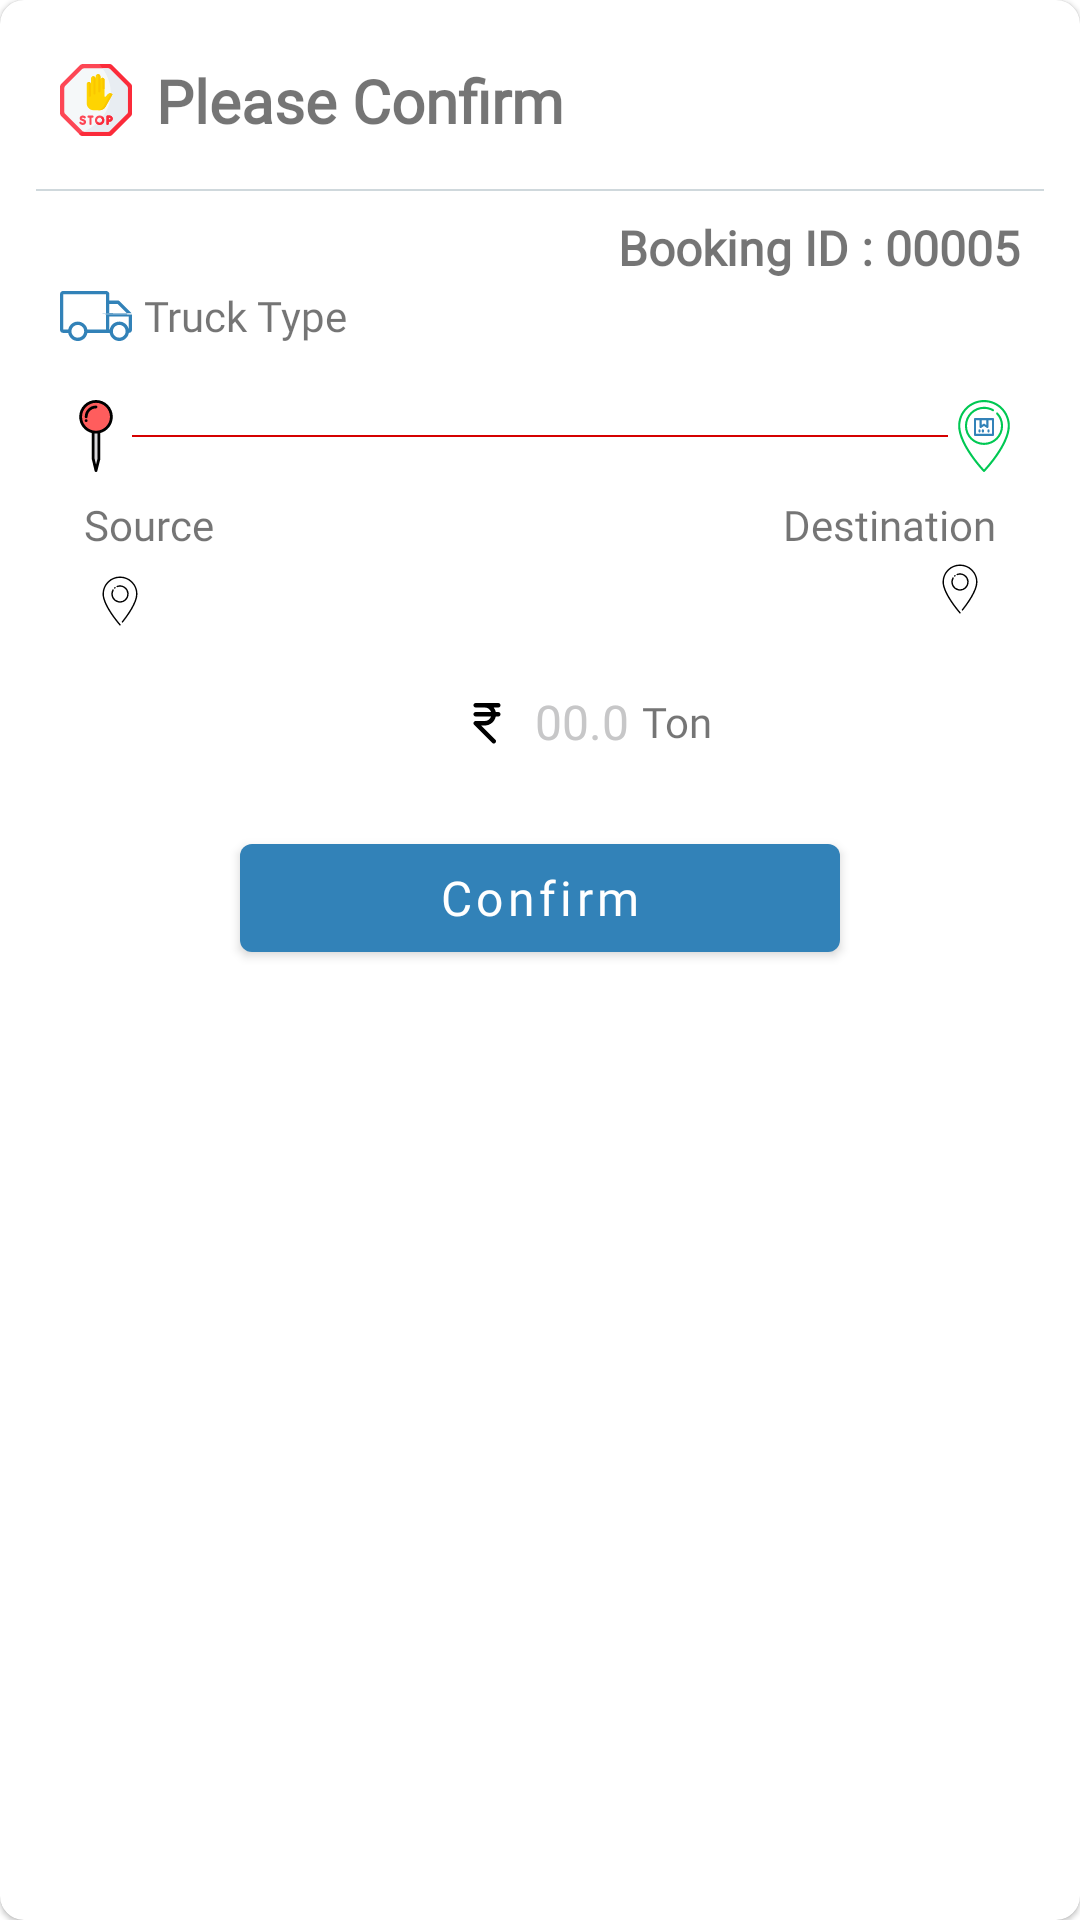

Icons on this 1080 × 1920 Android screen, each with its box as box=[x1, y1, x2, y2]:
pin: box=[79, 400, 113, 472]
rupee: box=[473, 703, 501, 744]
